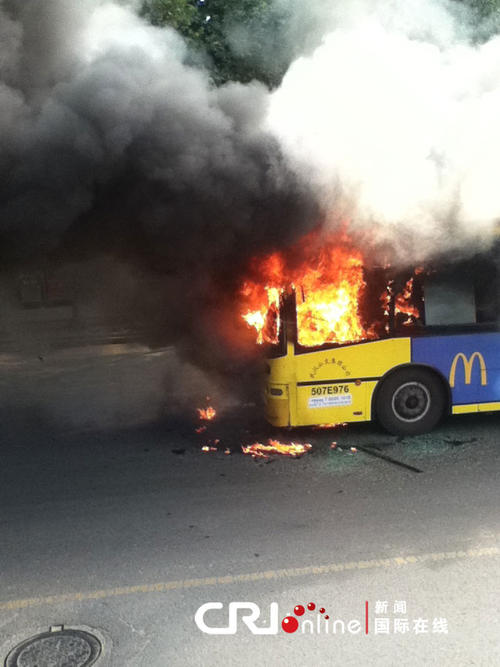fire: (228, 216, 434, 350)
smoke: (3, 10, 493, 207)
